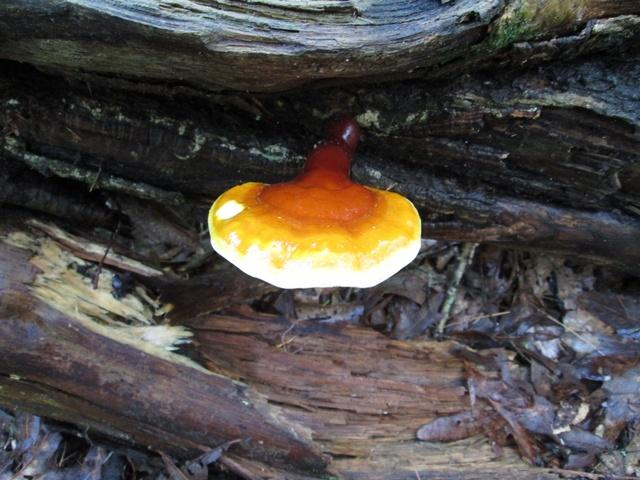poisonous_mushroom: (206, 113, 423, 312)
